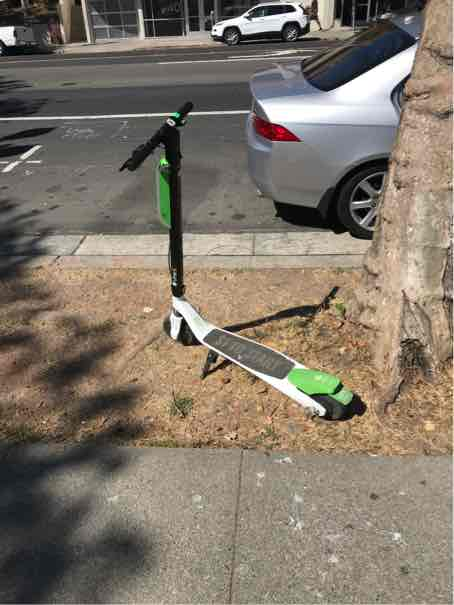scooter: (110, 86, 368, 432)
